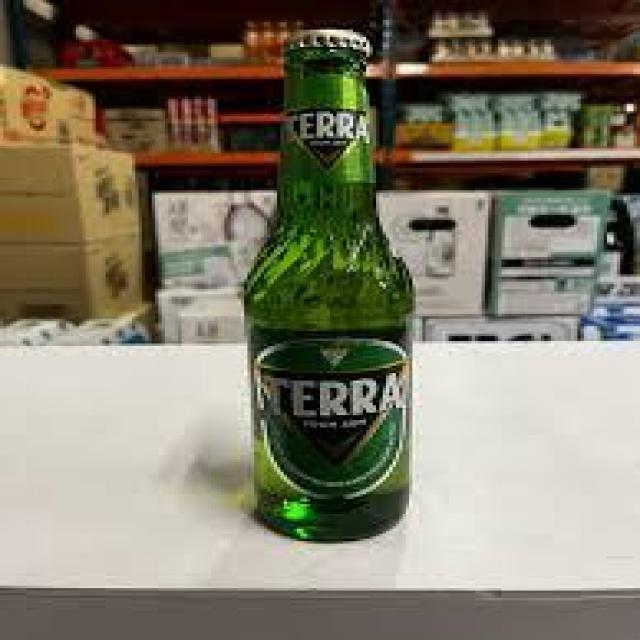beer-bottle: (221, 24, 422, 546)
